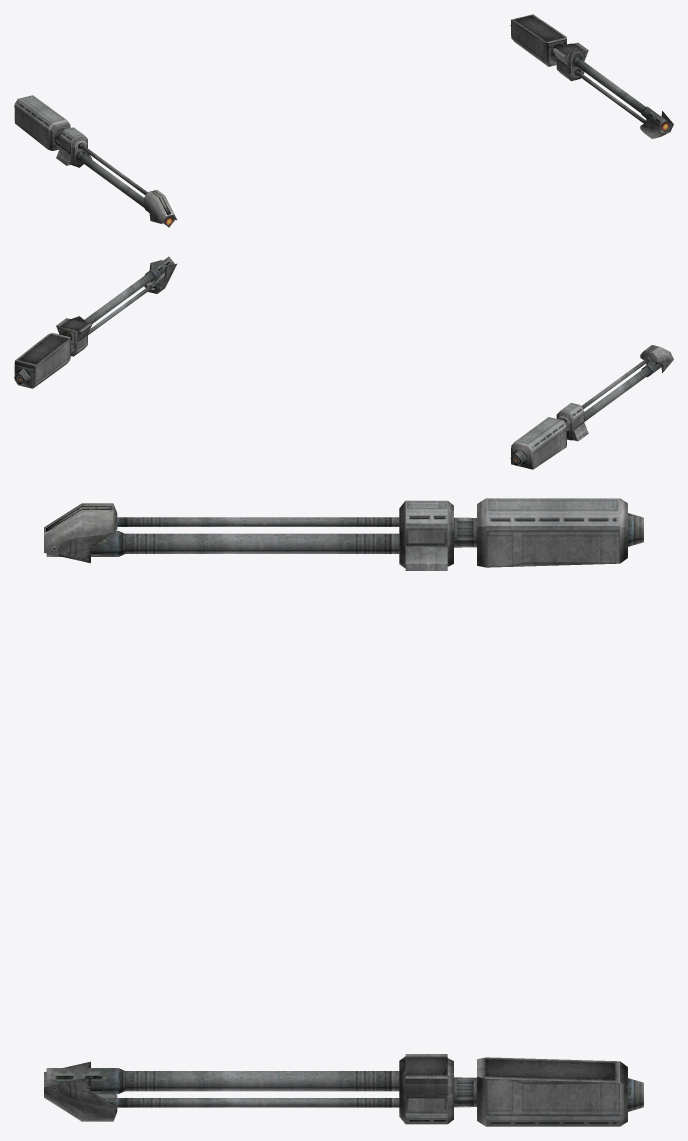
Rendered from xwing_weapon1_pos_s06_l1.fbx.
3 renders of one model, top to bottom at view 1: azimuth 30°, elevation 25°; view 2: azimuth 150°, elevation 25°; view 3: azimuth 270°, elevation 25°, orthographic. The views are drawn at different scales.
Parts seen in each view (by area): view 1: mesh_node; view 2: mesh_node; view 3: mesh_node.
Boxes of the visible parts, box(x1,y1,x2,y2) form: mesh_node: box(14, 14, 673, 227); mesh_node: box(14, 256, 673, 469); mesh_node: box(44, 498, 643, 1126).
Size of the model in its own units: 12.97 by 1.55 by 6.45.
